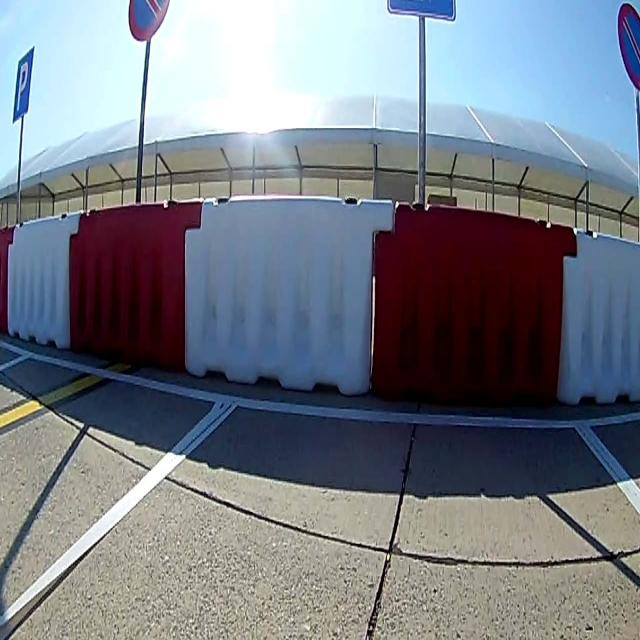park: (13, 50, 32, 114)
